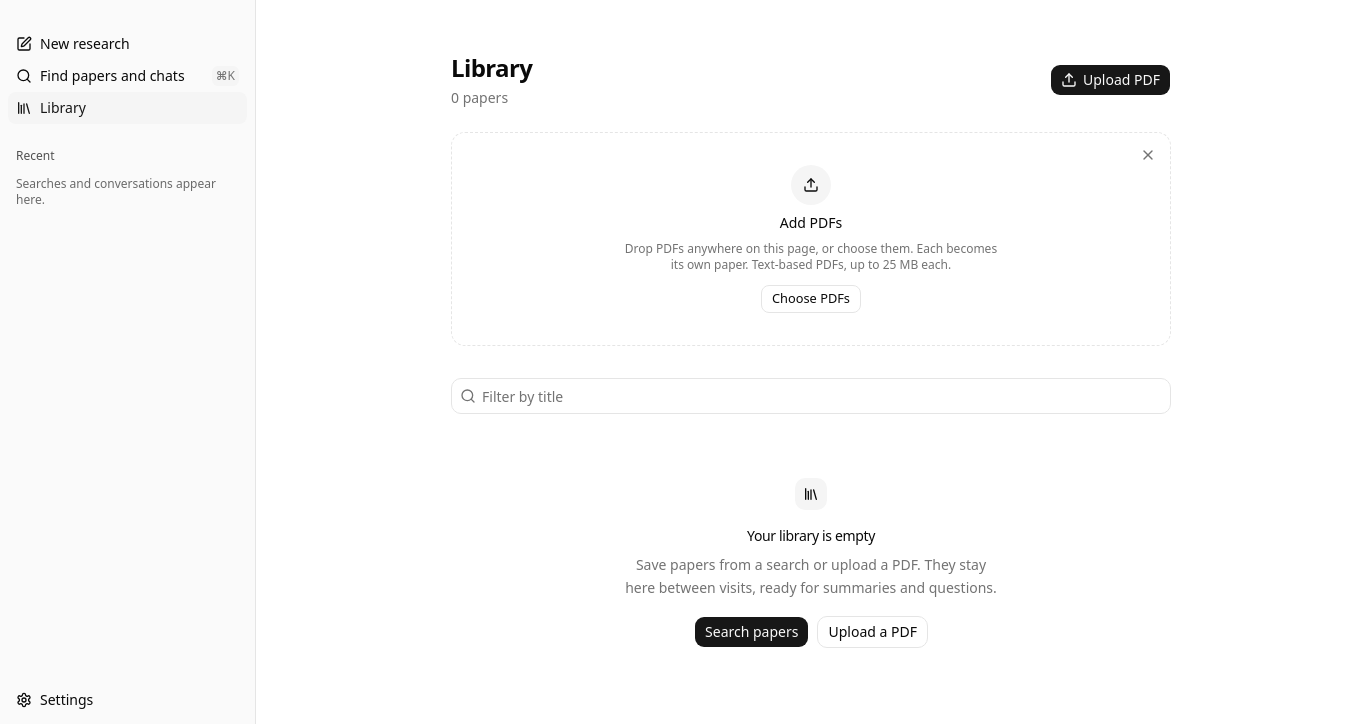
Test: Given the #upload link, Then an inline drop area opens and closing it clears the hash
The width and height of the screenshot is (1366, 724).
Expected: the button "Choose PDFs" is shown, [761,285,861,313]
Click the button named "Close": (1148, 155) [1134,141,1162,169]
(page scrolled)
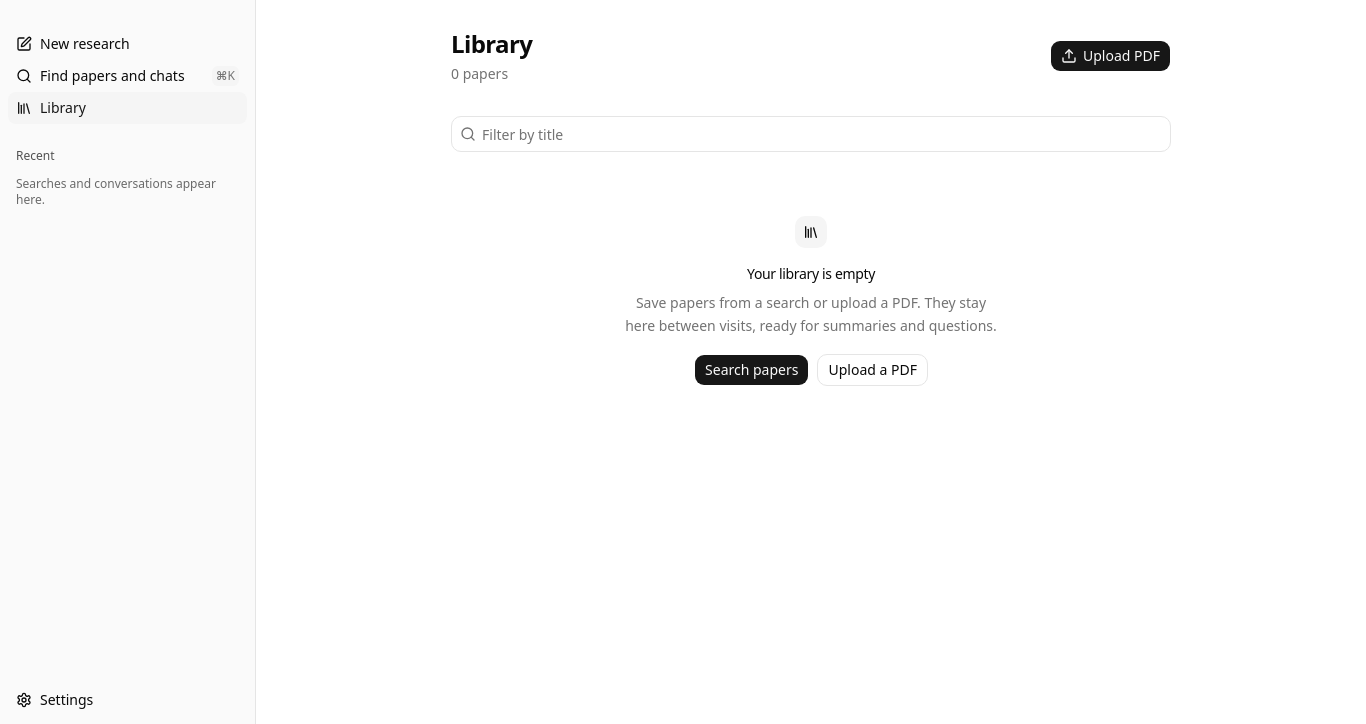
Expected: the text named "Location" reads "/library", [0,701,54,723]
Now the heading "Add PDFs" is gone
